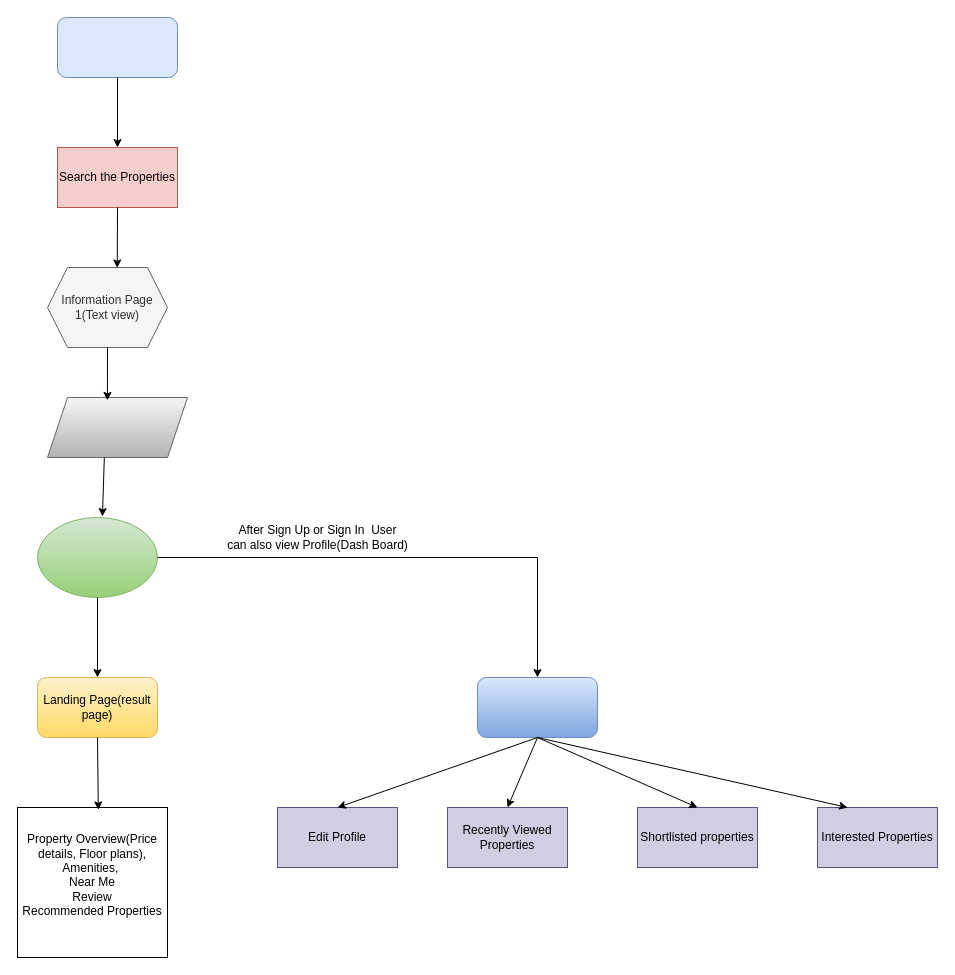
Some shapes in this 955 by 975 pixel diagram are drawn without their labels. The centre of each missing label's shape, as x and y in pixels:
Dash Board(My Profile: point (537, 707)
End User: point (117, 47)
Information Page 2 (Image view): point (117, 427)
Sign UP: point (97, 557)
